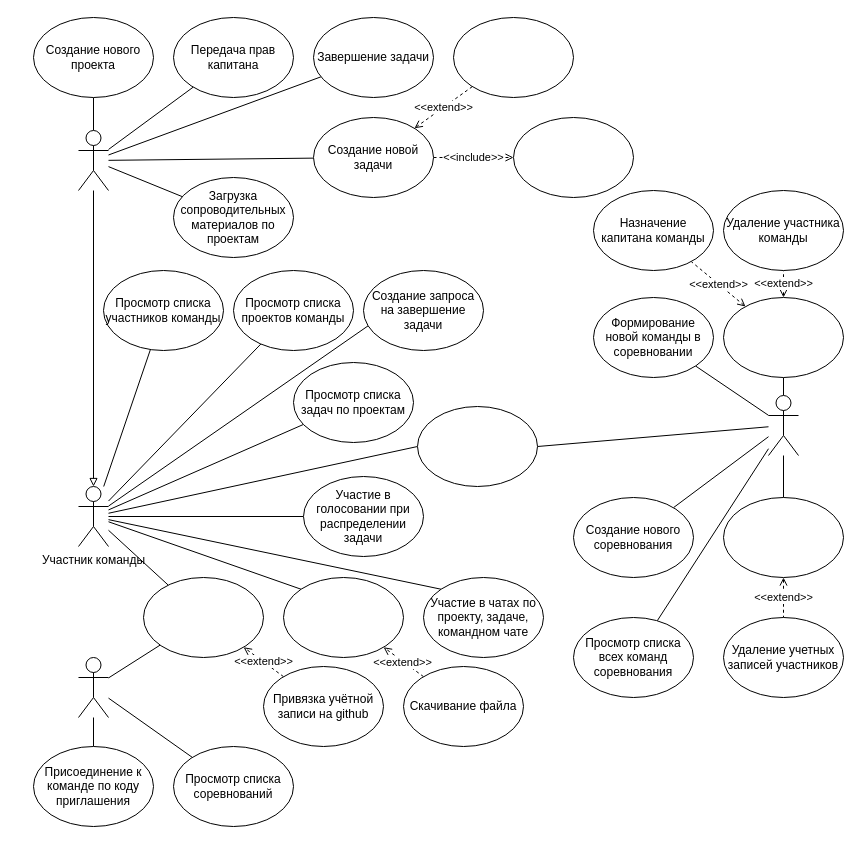
This 861x844 diagram has some shape labels left out. Each missing label, with the box of its shape:
Капитан команды: (78, 130, 108, 190)
Назначение исполнителя задачи: (512, 116, 634, 198)
Назначение исполнителя через голосование: (452, 16, 574, 98)
Организатор: (768, 394, 798, 456)
Пользователь без команды: (78, 656, 108, 718)
Просмотр своего профиля: (142, 576, 264, 658)
Просмотр сопроводительных материалов в проектах: (282, 576, 404, 658)
Просмотр списка всех участников команды: (722, 296, 844, 378)
Просмотр списка участников сорвенований: (722, 496, 844, 578)
Просмотр уведомлений: (416, 406, 538, 486)
